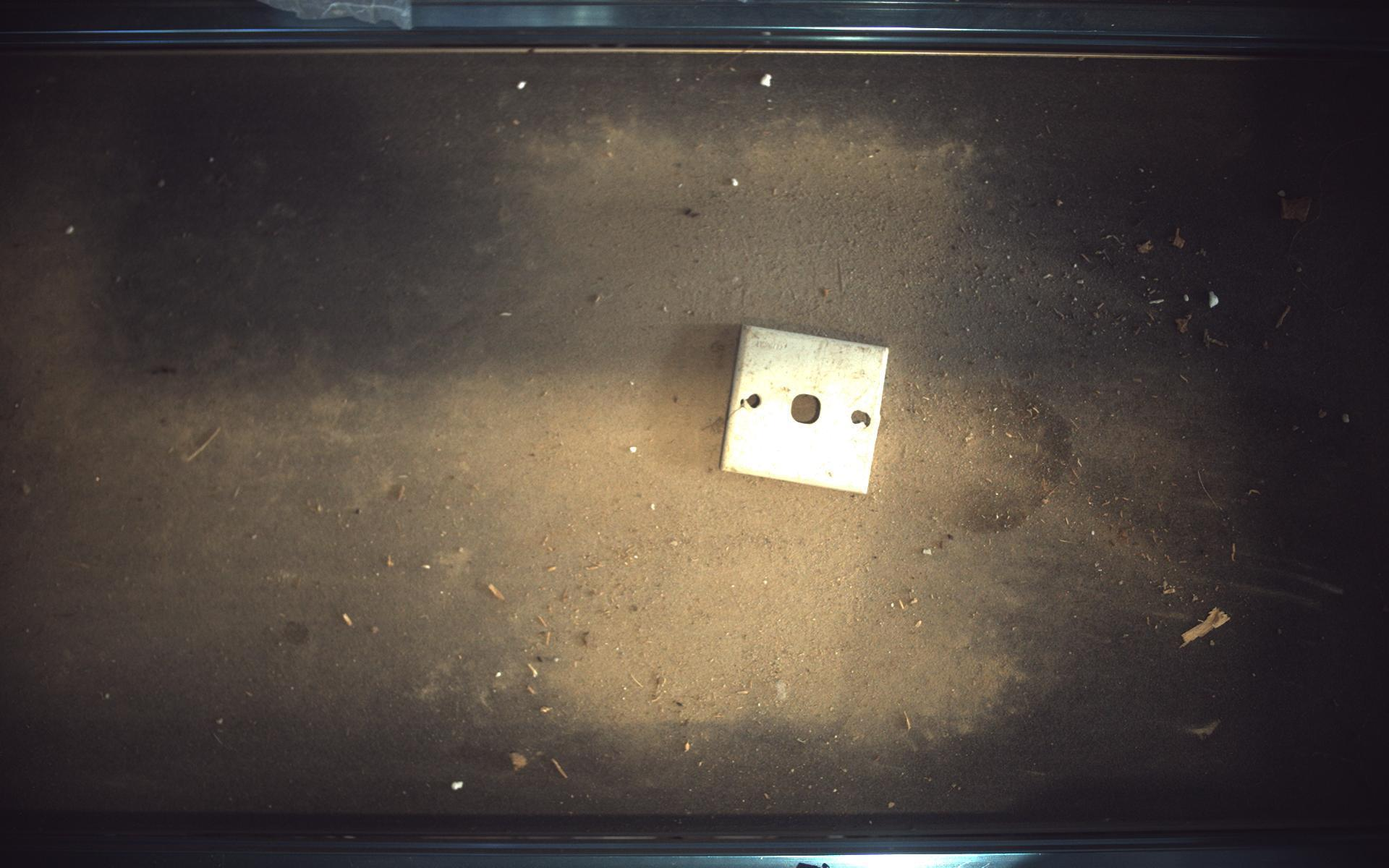plastic: (723, 325, 890, 494)
